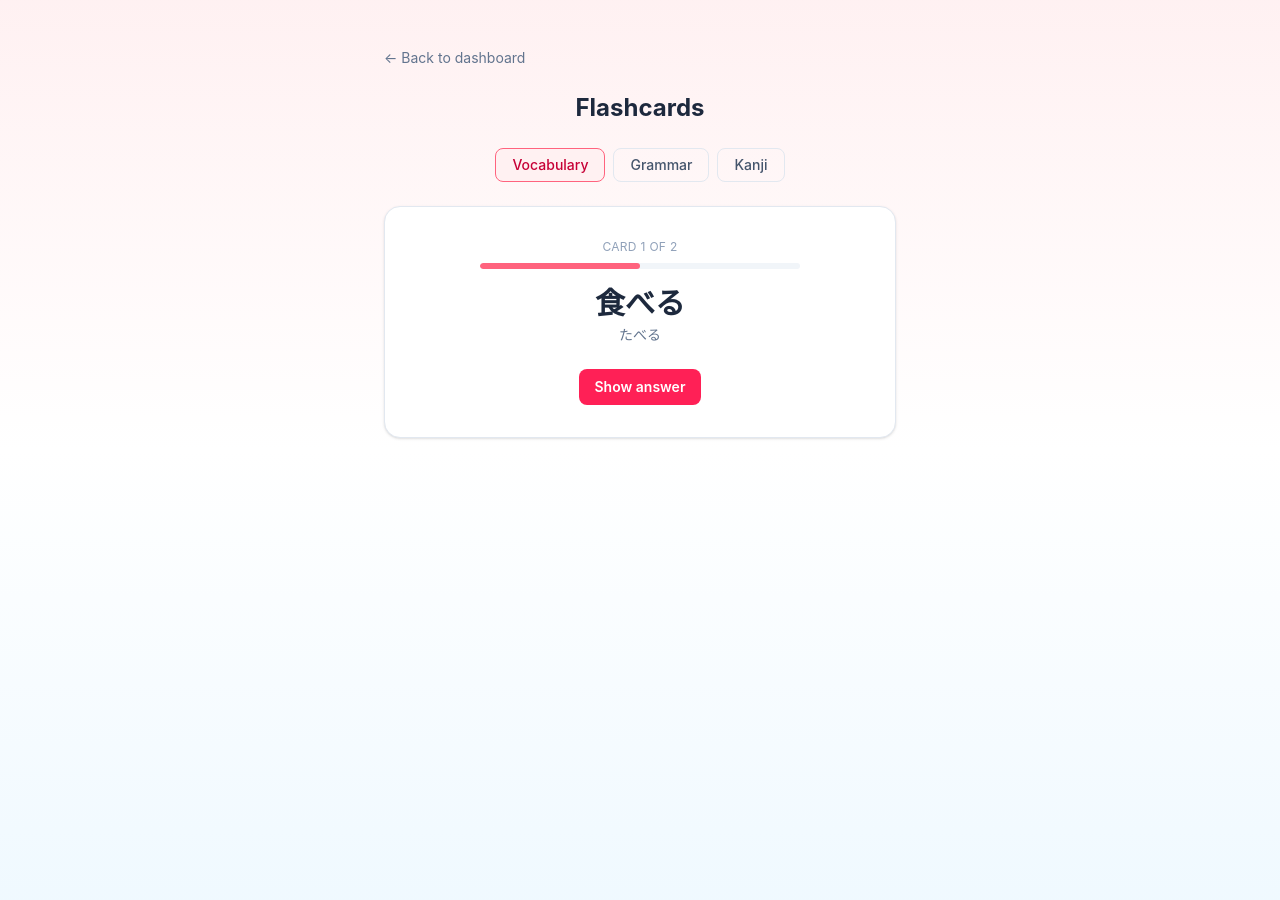
Test case: FlashcardsPage › shows an AI Tutor explanation when asked
Expected: the text "食べる" is shown, [595,285,685,321]
Click the button "Show answer": (640,387) [578,369,702,405]
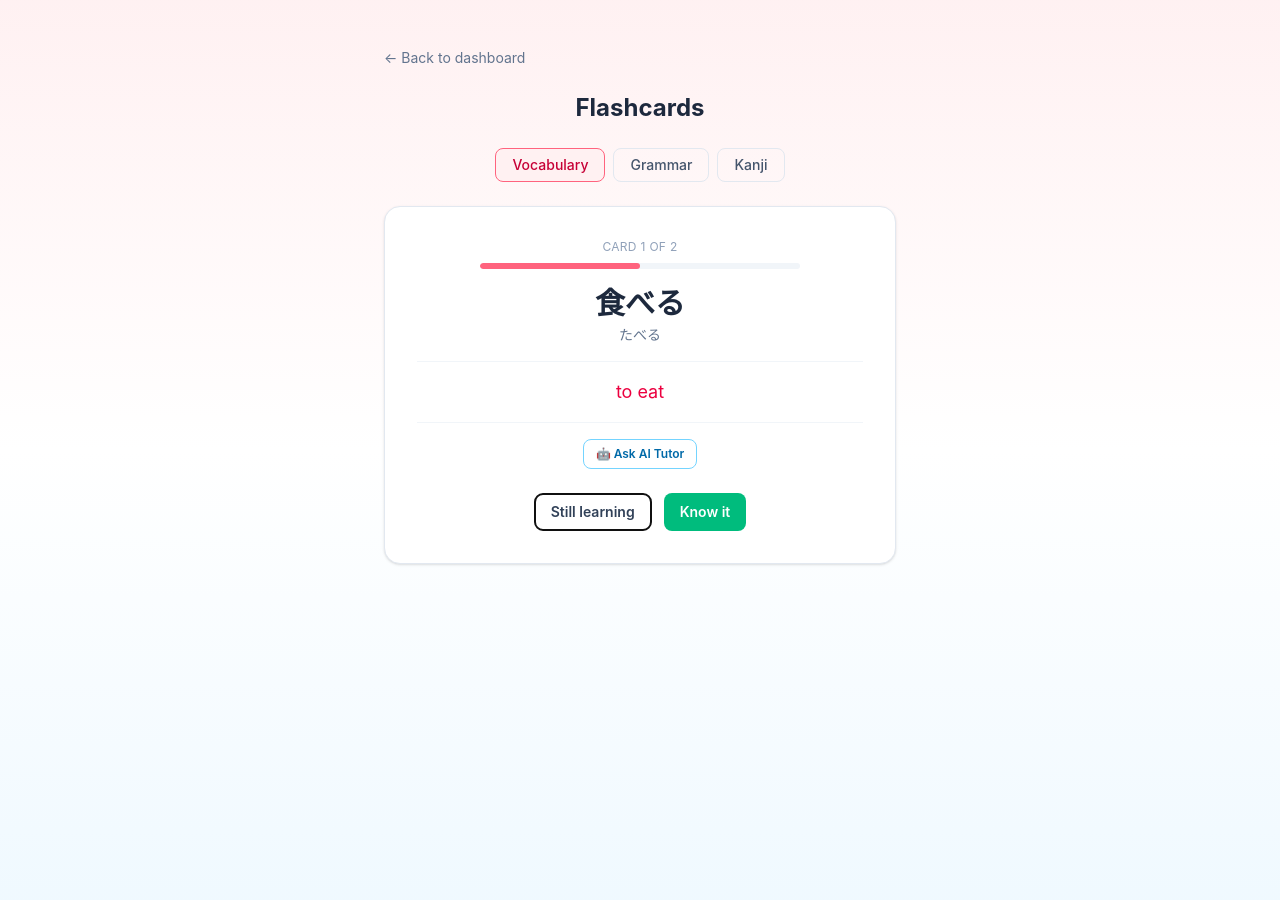
Click the button "🤖 Ask AI Tutor": (640,454) [583,439,697,469]
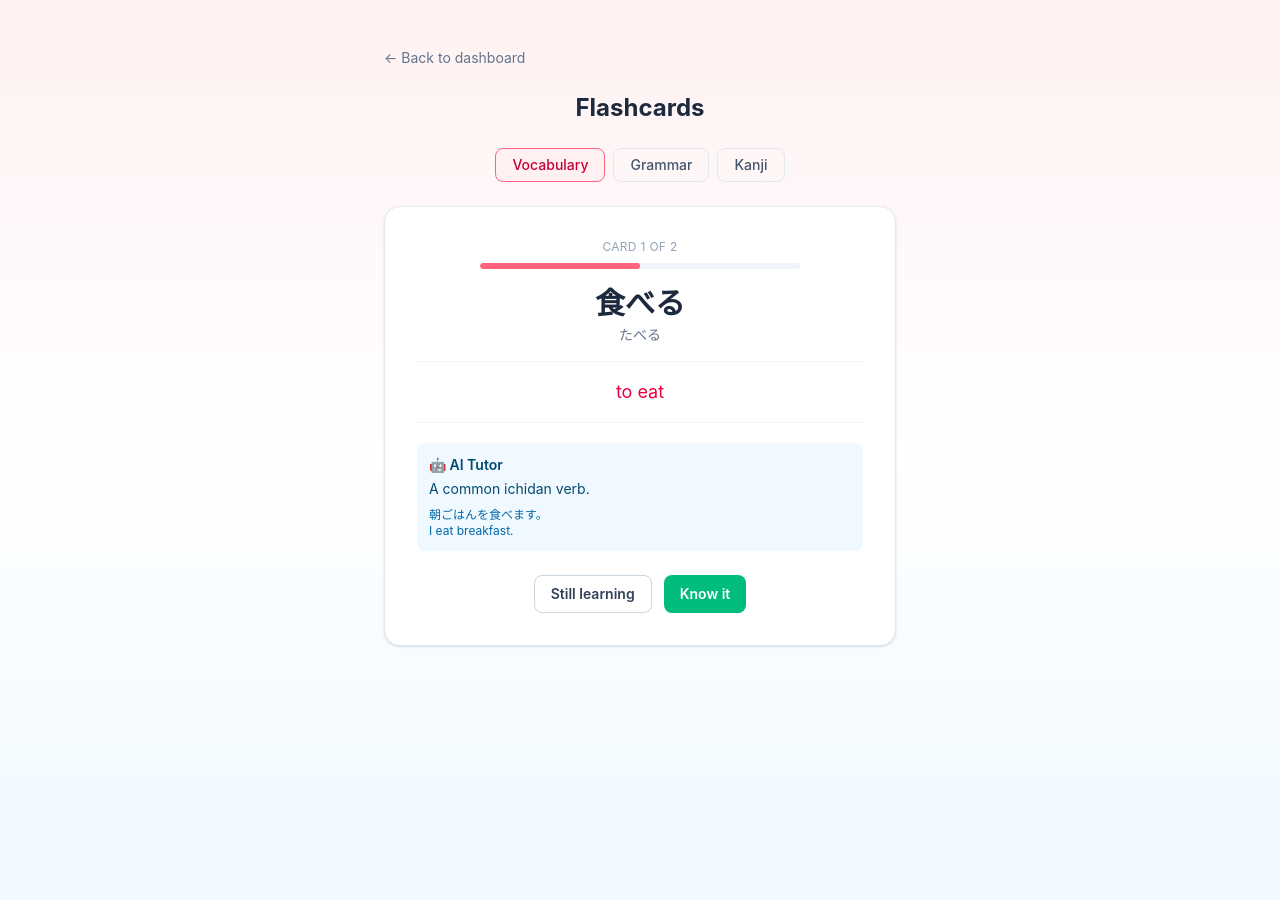
Expected: the text "A common ichidan verb." is shown, [429,480,590,497]
